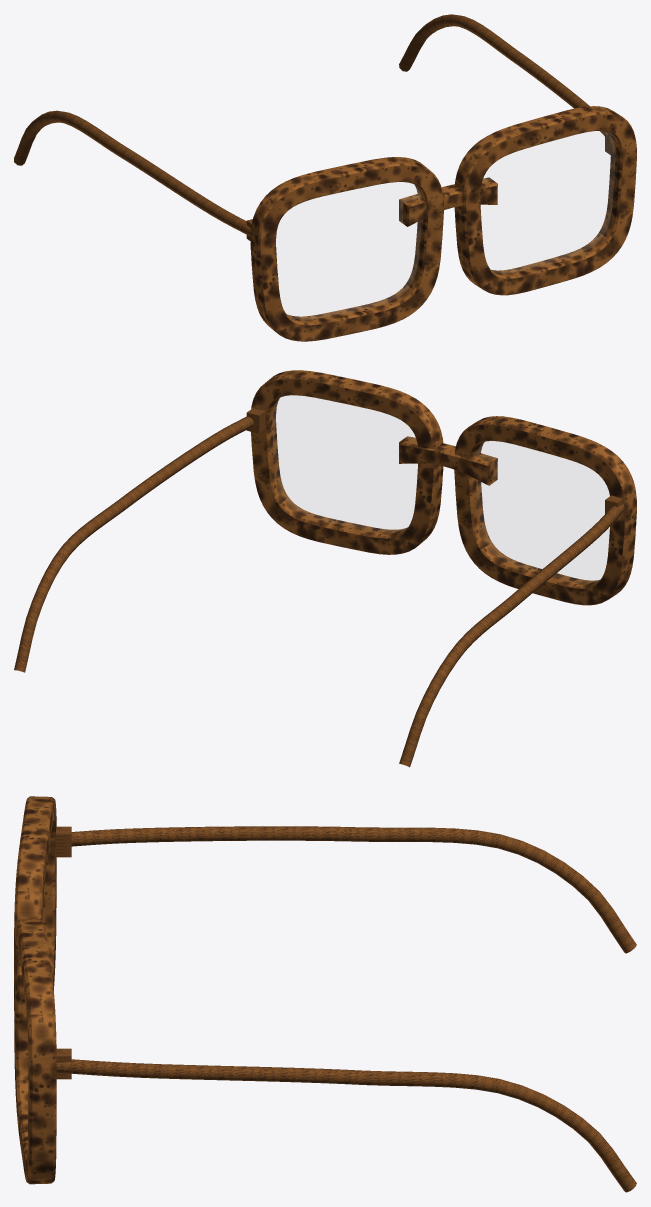
File: NY-M02_Brook_Havana_tortoise.glb
3 renders of one model, top to bottom at view 1: azimuth 30°, elevation 25°; view 2: azimuth 150°, elevation 25°; view 3: azimuth 270°, elevation 25°, orthographic. The views are drawn at different scales.
Parts seen in each view (by area): view 1: Brook_Havana_tortoise_Acetate, Brook_Havana_tortoise_Lenses; view 2: Brook_Havana_tortoise_Acetate, Brook_Havana_tortoise_Lenses; view 3: Brook_Havana_tortoise_Acetate.
Part boxes in pixels (x1,y1,x2,y2): Brook_Havana_tortoise_Acetate: [14, 14, 636, 341]; Brook_Havana_tortoise_Lenses: [276, 131, 614, 318]; Brook_Havana_tortoise_Acetate: [14, 370, 636, 767]; Brook_Havana_tortoise_Lenses: [273, 396, 609, 582]; Brook_Havana_tortoise_Acetate: [14, 796, 636, 1192].
Size of the model in its own units: 0.1508 by 0.0576 by 0.1579.
2 materials, 1 textured.
